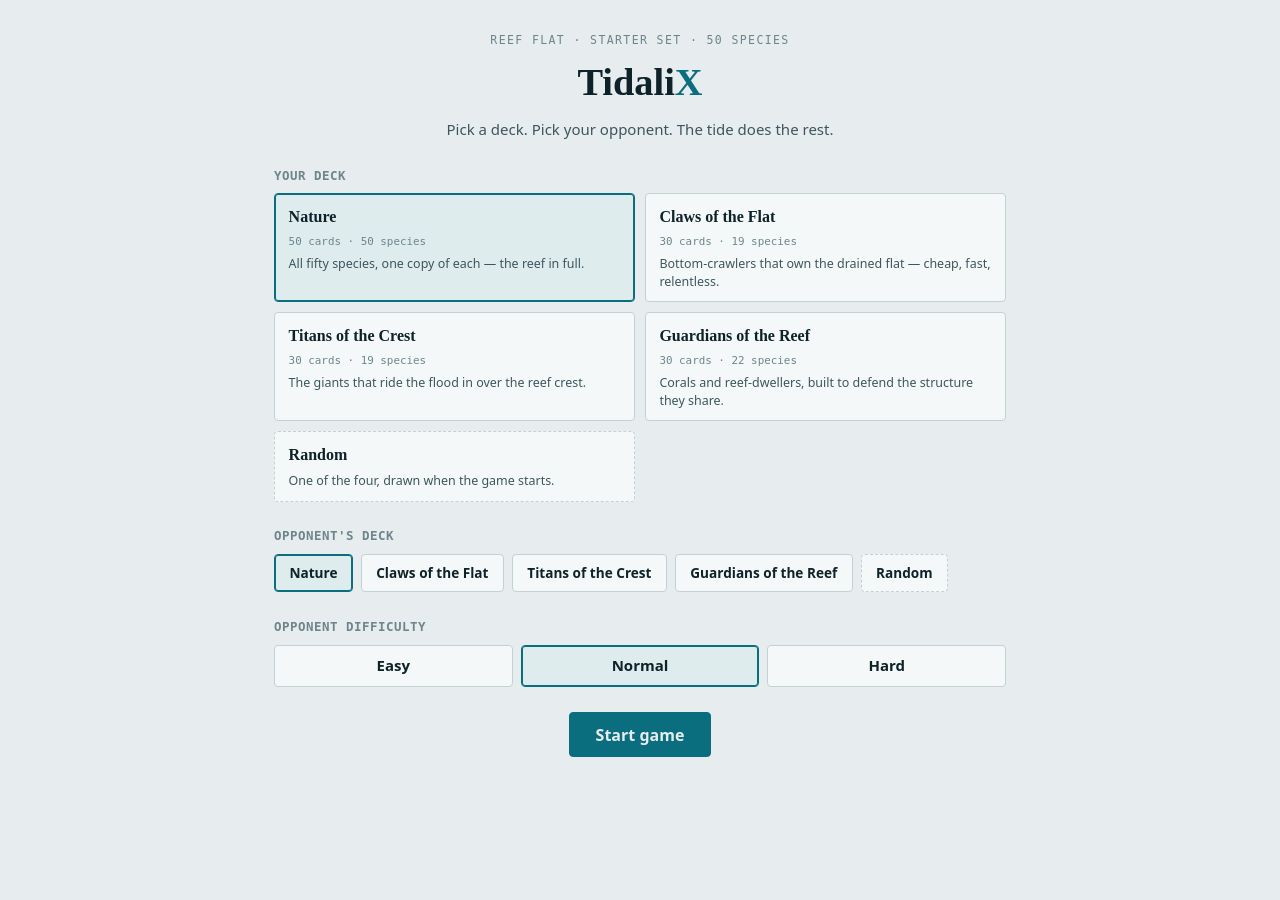
Test: the coin flip › says who starts in the opening line of the log
(page scrolled)
Click the button with class "setup__start" at (640, 735), box x1=569 y1=712 x2=711 y2=757
(page scrolled)
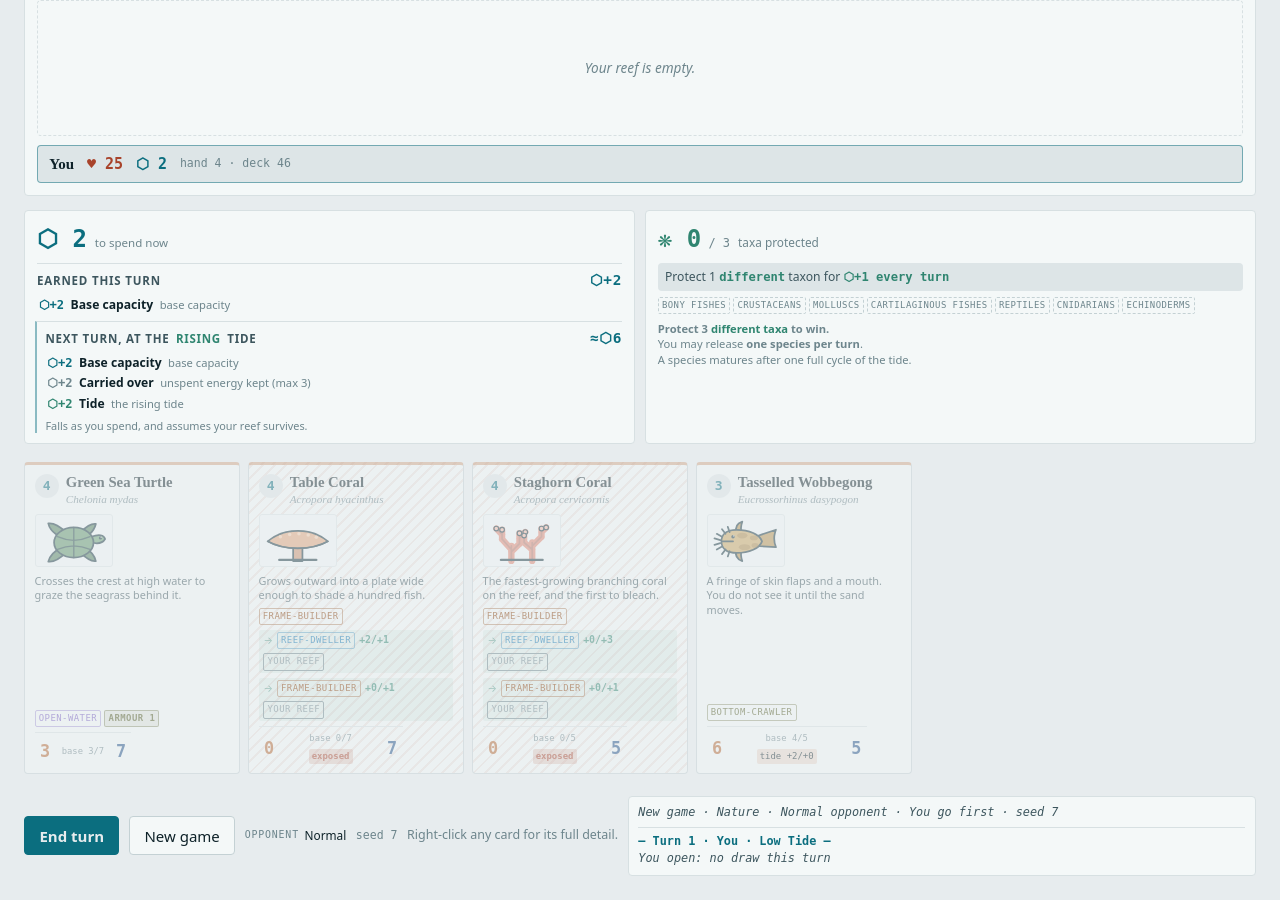
Result: the list item with class "log__line" shows "You go first" at x1=638 y1=804 x2=1058 y2=818
